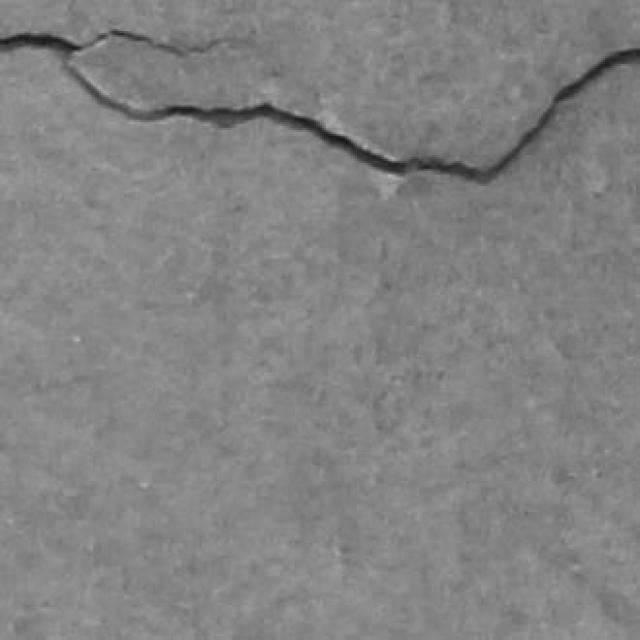crack: (0, 32, 639, 184)
